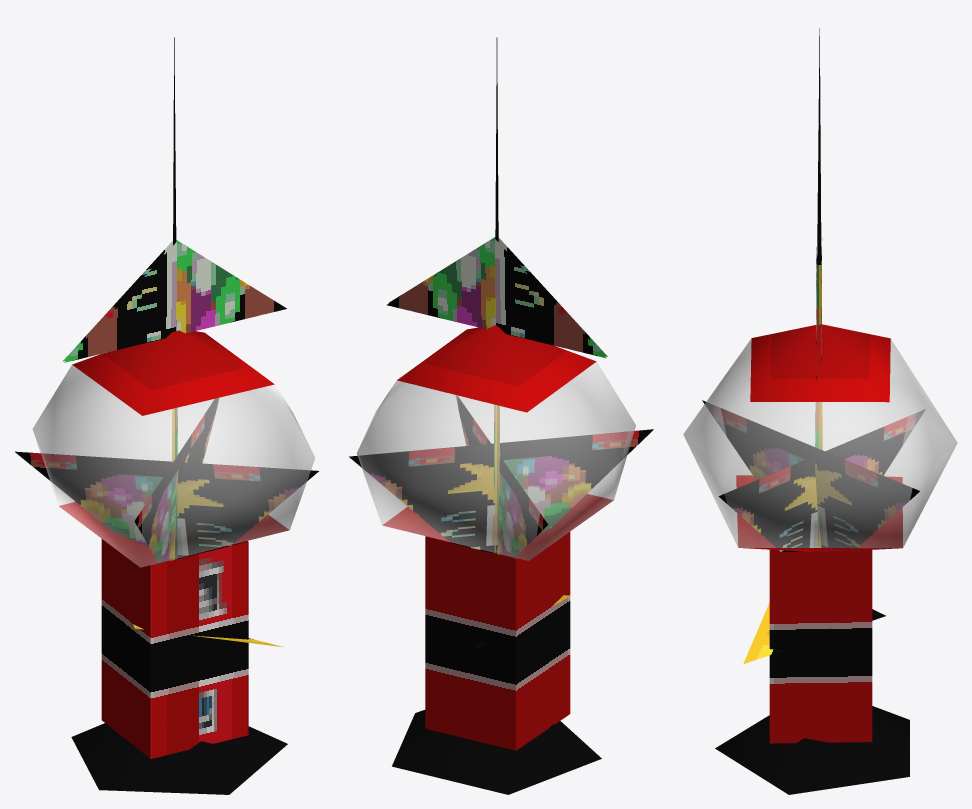
The picture shows the model from 3 angles, left to right: view 1: azimuth 30°, elevation 25°; view 2: azimuth 150°, elevation 25°; view 3: azimuth 270°, elevation 25°; orthographic projection.
Parts seen in each view (by area): view 1: 3930kg3_gs22; view 2: 3930kg3_gs22; view 3: 3930kg3_gs22.
Boxes of the visible parts, x1,y1,x2,y2 form: 3930kg3_gs22: [15, 37, 318, 794]; 3930kg3_gs22: [349, 37, 653, 794]; 3930kg3_gs22: [683, 28, 957, 794].
Bounding box in the file's own units: 0.8823 × 2.59 × 0.8804.
3 materials, 3 textured.
